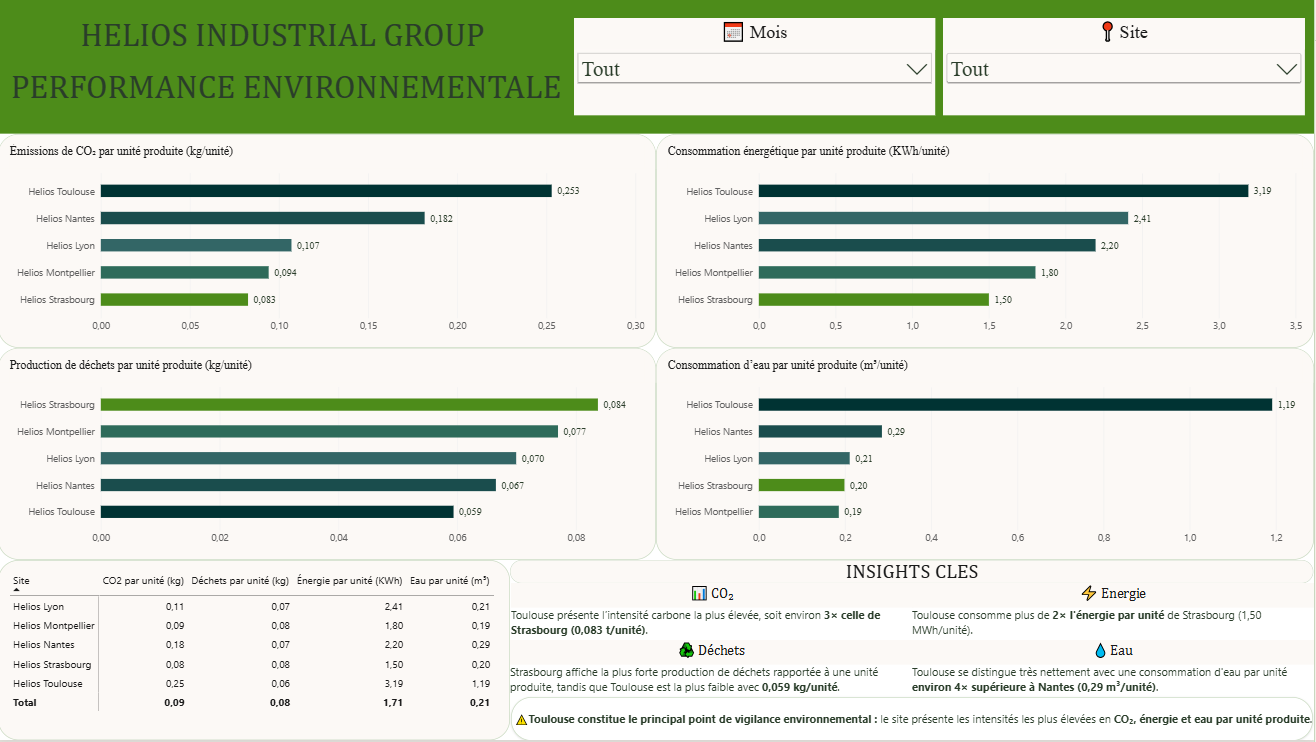

This screenshot's page, from the dashboard's own definition file:
{"tool":"powerbi","page":{"name":"PERFORMANCE ENVIRONNEMENTALE","canvas":[1920,1080],"ordinal":4},"visuals":[{"type":"textbox","box":[0,0,1920,195],"z":0},{"type":"textbox","box":[0,26.3,840.4,153.2],"z":1000},{"type":"barChart","title":"Émissions de CO₂ par unité produite (kg/unité)","fields":{"Category":["site.site_name"],"Y":["Mesures.CO2 par unité"]},"box":[0,195.5,960,312.2],"z":4000},{"type":"barChart","title":"Consommation énergétique par unité produite (KWh/unité)","fields":{"Category":["site.site_name"],"Y":["Mesures.Énergie par unité"]},"box":[960,195.5,960,312.2],"z":5000},{"type":"barChart","title":"Production de déchets par unité produite (kg/unité)","fields":{"Category":["site.site_name"],"Y":["Mesures.Déchets par unité"]},"box":[0,507.7,960,309.3],"z":6000},{"type":"barChart","title":"Consommation d’eau par unité produite (m³/unité)","fields":{"Category":["site.site_name"],"Y":["Mesures.Eau par unité"]},"box":[960,507.7,960,309.3],"z":7000},{"type":"pivotTable","fields":{"Rows":["site.site_name"],"Values":["Mesures.CO2 par unité","Mesures.Déchets par unité","Mesures.Énergie par unité","Mesures.Eau par unité"]},"box":[0,817,747,262.6],"z":8000},{"type":"textbox","title":"INSIGHTS CLES","box":[747,817,1171.6,33.6],"z":9000},{"type":"textbox","title":"📊 CO₂","box":[748.4,850.6,586.5,83.2],"z":10000},{"type":"textbox","title":"⚡ Energie","box":[1333.5,850.6,586.5,83.2],"z":11000},{"type":"textbox","title":"💧 Eau","box":[1333.5,933.7,586.5,83.2],"z":11001},{"type":"textbox","title":"♻️ Déchets","box":[747,933.7,586.5,83.2],"z":11002},{"type":"textbox","box":[748.4,1016.9,1170.1,64.2],"z":11003},{"type":"slicer","title":"📅 Mois","fields":{"Values":["dim_date.Mois"]},"box":[840,26.7,526.7,141.7],"z":11004},{"type":"slicer","title":"📍 Site","fields":{"Values":["site.site_name"]},"box":[1378.3,26.7,528.3,141.7],"z":11005}]}

Visuals, with their boxes in screenshot pixels (x1, y1, x2, y2), scaled from the page's 1920x1080 canvas onto the 1316x742 screenshot:
textbox: detection(0, 0, 1315, 134)
textbox: detection(0, 18, 576, 123)
"Émissions de CO₂ par unité produite (kg/unité)" barChart: detection(0, 134, 658, 349)
"Consommation énergétique par unité produite (KWh/unité)" barChart: detection(658, 134, 1315, 349)
"Production de déchets par unité produite (kg/unité)" barChart: detection(0, 349, 658, 561)
"Consommation d’eau par unité produite (m³/unité)" barChart: detection(658, 349, 1315, 561)
pivotTable - site.site_name x Mesures.CO2 par unité: detection(0, 561, 512, 741)
"INSIGHTS CLES" textbox: detection(512, 561, 1315, 584)
"📊 CO₂" textbox: detection(513, 584, 915, 642)
"⚡ Energie" textbox: detection(914, 584, 1315, 642)
"💧 Eau" textbox: detection(914, 641, 1315, 699)
"♻️ Déchets" textbox: detection(512, 641, 914, 699)
textbox: detection(513, 699, 1315, 741)
"📅 Mois" slicer: detection(576, 18, 937, 116)
"📍 Site" slicer: detection(945, 18, 1307, 116)
